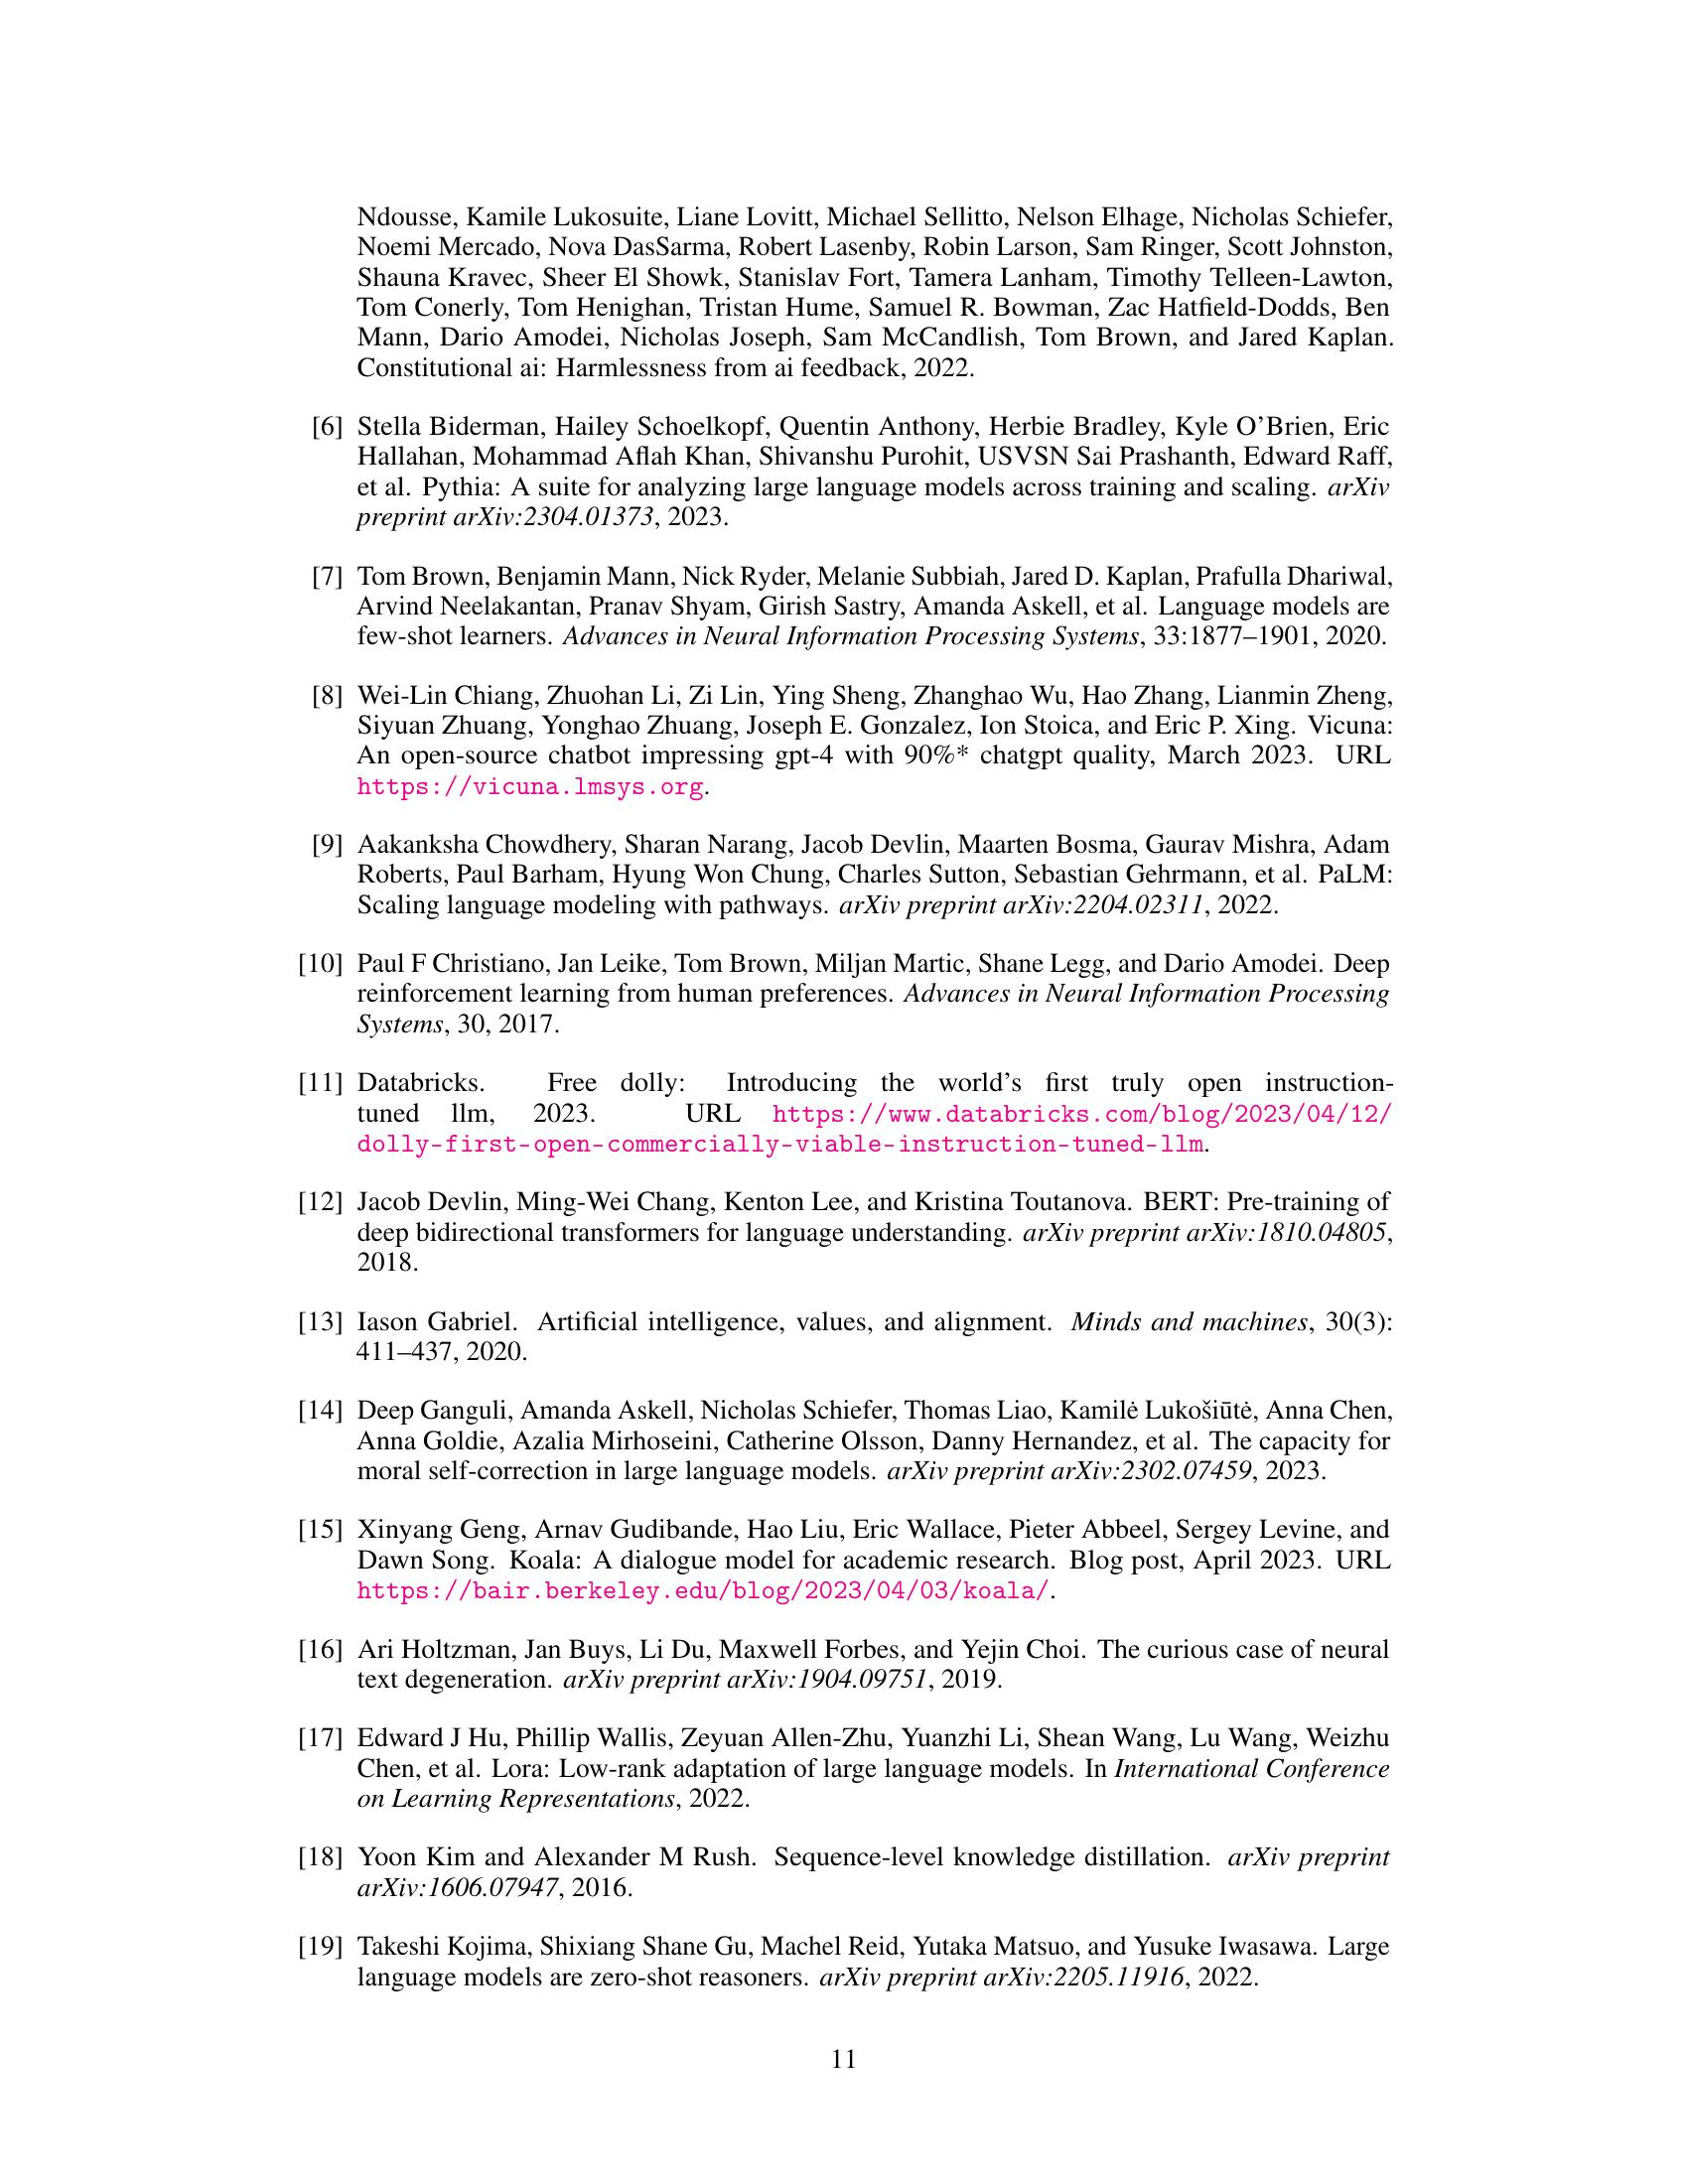text: (287, 193, 1403, 1163), (287, 1175, 1403, 2001)
